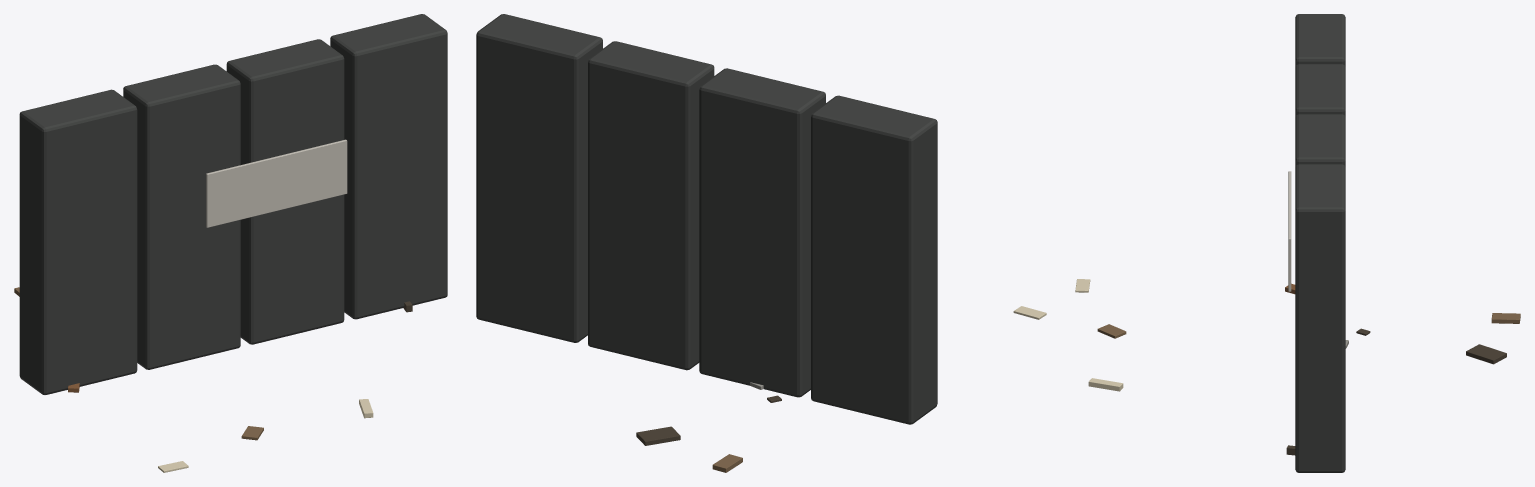
File: dz_barricade_heavy_modular_premium.glb
3 views of the same model, side by side, from view 1: azimuth 30°, elevation 25°; view 2: azimuth 150°, elevation 25°; view 3: azimuth 270°, elevation 25° (orthographic). The views are drawn at different scales.
Visible parts, largest first — view 1: heavy_modular_shield_0, heavy_modular_shield_3, heavy_modular_shield_1, heavy_modular_shield_2, heavy_quarantine_logo; view 2: heavy_modular_shield_0, heavy_modular_shield_2, heavy_modular_shield_3, heavy_modular_shield_1, heavy_debris_04; view 3: heavy_modular_shield_3, heavy_modular_shield_1, heavy_modular_shield_2, heavy_modular_shield_0, heavy_debris_04, heavy_quarantine_logo.
Boxes of the visible parts, x1=… form: heavy_modular_shield_0: x1=19, y1=89, x2=137, y2=394; heavy_modular_shield_3: x1=330, y1=14, x2=447, y2=319; heavy_modular_shield_1: x1=123, y1=64, x2=240, y2=369; heavy_modular_shield_2: x1=226, y1=39, x2=344, y2=344; heavy_quarantine_logo: x1=206, y1=139, x2=347, y2=227; heavy_modular_shield_0: x1=811, y1=95, x2=937, y2=424; heavy_modular_shield_2: x1=588, y1=41, x2=714, y2=370; heavy_modular_shield_3: x1=476, y1=14, x2=602, y2=342; heavy_modular_shield_1: x1=699, y1=68, x2=825, y2=397; heavy_debris_04: x1=636, y1=426, x2=680, y2=445; heavy_modular_shield_3: x1=1295, y1=164, x2=1345, y2=472; heavy_modular_shield_1: x1=1295, y1=64, x2=1345, y2=116; heavy_modular_shield_2: x1=1295, y1=114, x2=1345, y2=166; heavy_modular_shield_0: x1=1295, y1=14, x2=1345, y2=66; heavy_debris_04: x1=1466, y1=344, x2=1506, y2=364; heavy_quarantine_logo: x1=1288, y1=171, x2=1291, y2=291.
Size of the model in its own units: 3.33 by 2.1 by 3.19.
